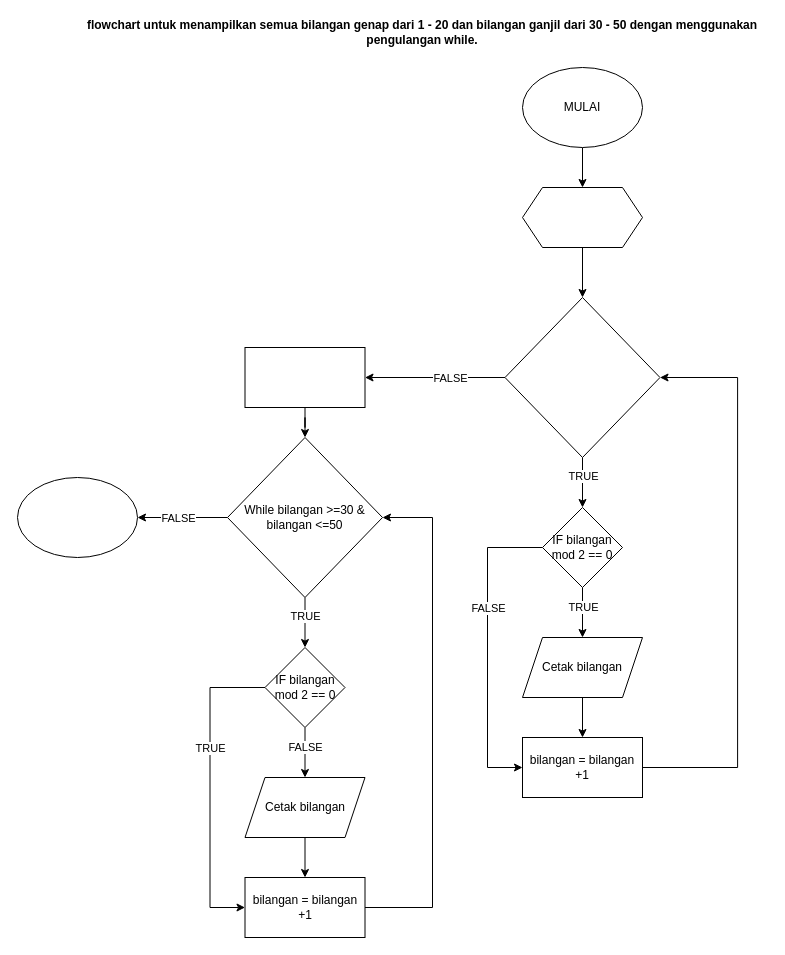
Some shapes in this 785 by 955 pixel diagram are drawn without their labels. The shapes that lost their labels are listed below. From the top down, each one's box as (x1, y1, x2, y2) in pixels, then its label:
(522, 186, 642, 248): bilangan = 1
(244, 346, 365, 408): bilangan = 30
(504, 296, 660, 458): While bilangan >=1 & bilangan <=20
(16, 476, 138, 558): SELESAI
